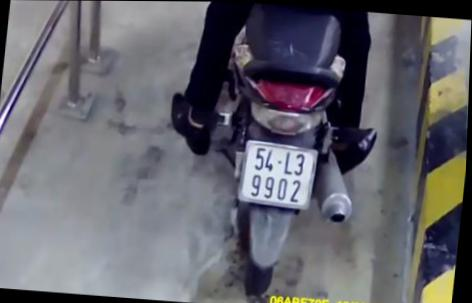LP: (235, 137, 321, 212)
